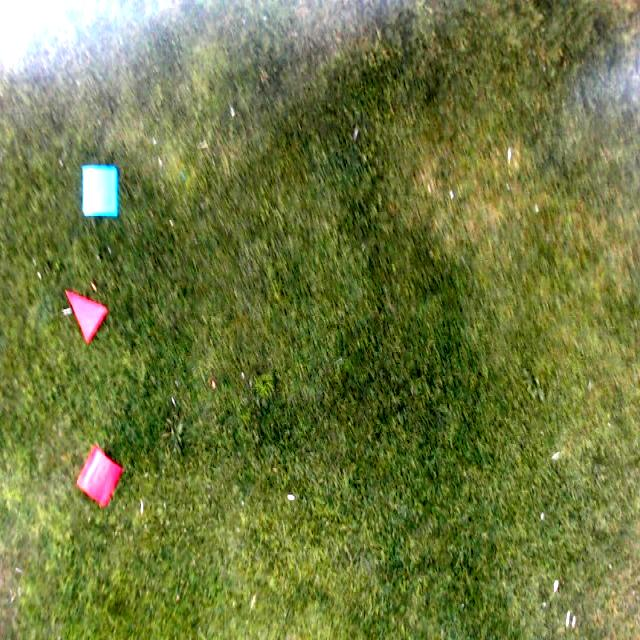blue_square: (82, 167, 118, 216)
red_square: (78, 445, 120, 508)
red_triangle: (66, 288, 106, 342)
